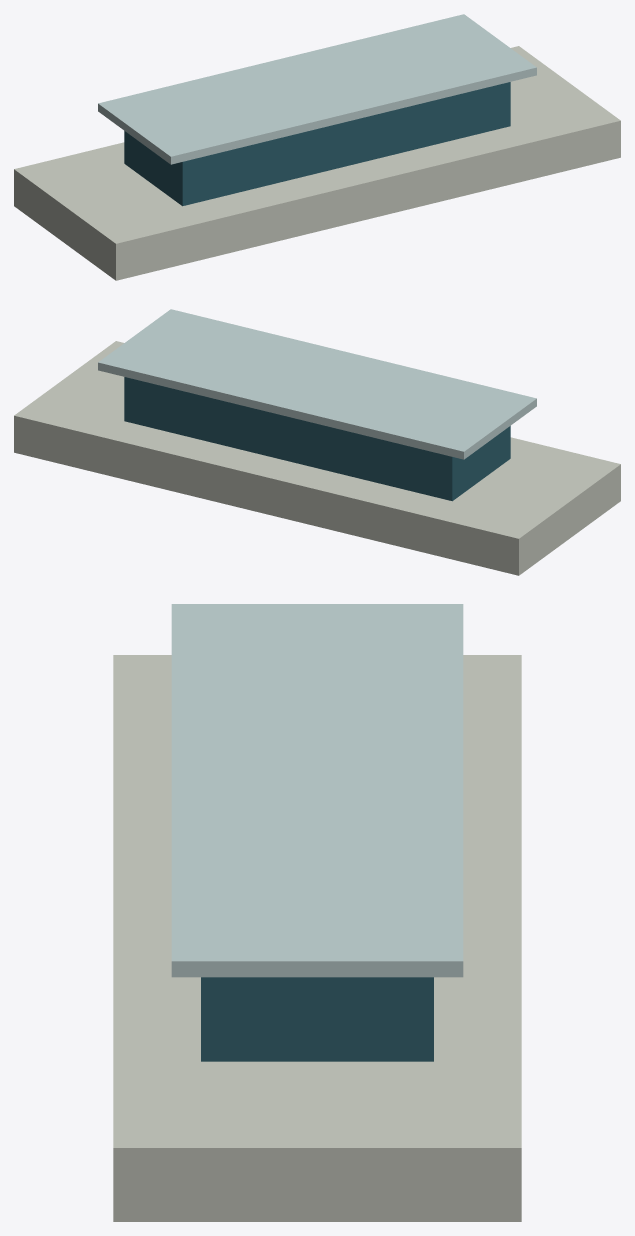
Rendered from ferry-terminal.glb.
3 renders of one model, top to bottom at view 1: azimuth 30°, elevation 25°; view 2: azimuth 150°, elevation 25°; view 3: azimuth 270°, elevation 25°, orthographic. The views are drawn at different scales.
Parts seen in each view (by area): view 1: ferry-terminal; view 2: ferry-terminal; view 3: ferry-terminal.
Boxes of the visible parts, x1=… form: ferry-terminal: x1=14, y1=14, x2=620, y2=280; ferry-terminal: x1=14, y1=309, x2=620, y2=575; ferry-terminal: x1=113, y1=604, x2=521, y2=1221.
Size of the model in its own units: 40 by 7.3 by 14.
